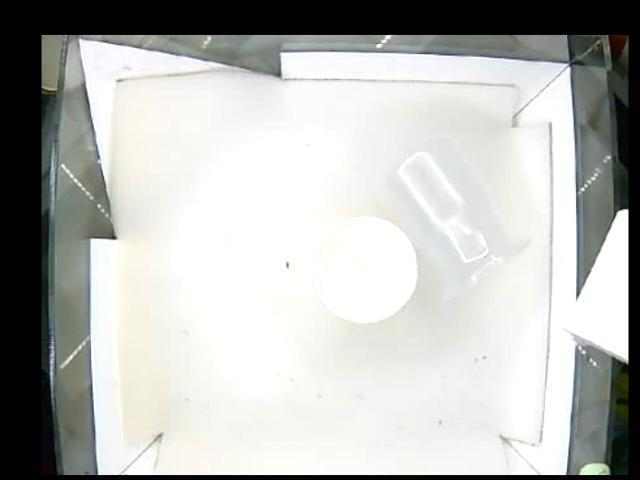Bottle: (394, 142, 524, 295)
Cup: (312, 214, 420, 326)
